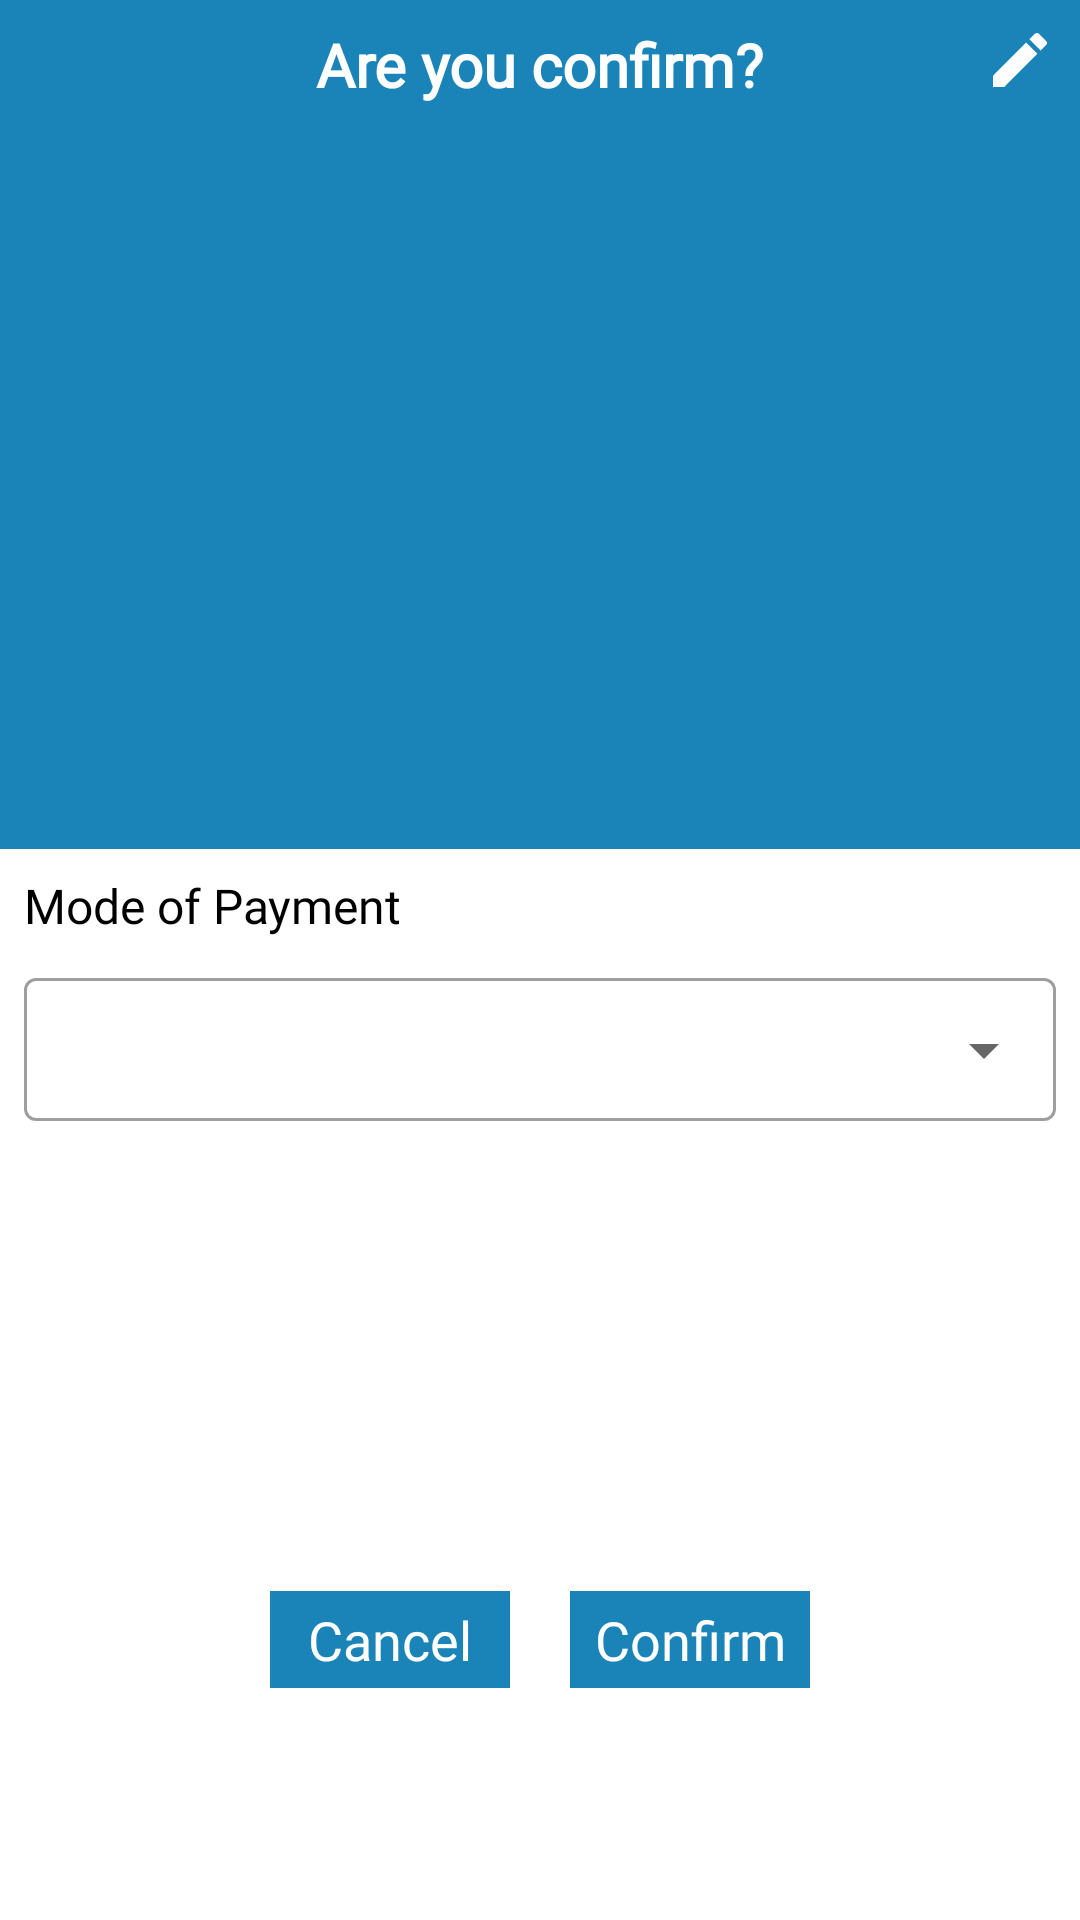

Screen size 1080x1920. Icon name, then its box in pixels as (left=x1, top=y1, right=x2, bottom=y2):
edit: (left=993, top=33, right=1047, bottom=87)
